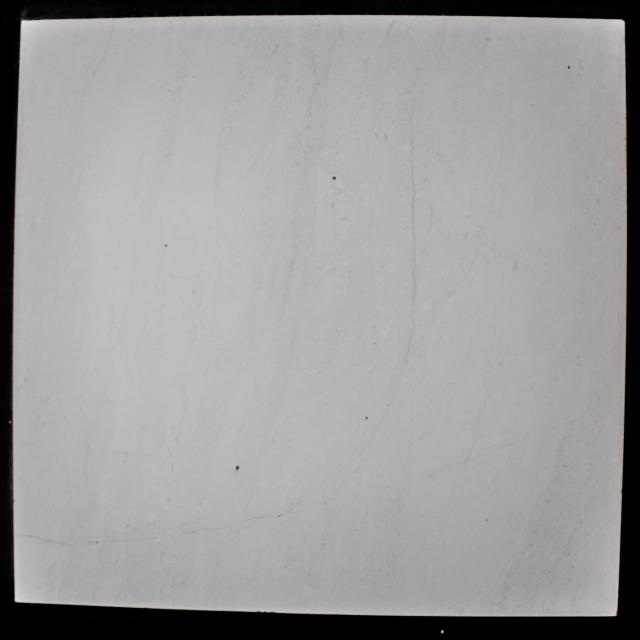hole: (235, 464, 241, 471), (164, 242, 169, 249), (332, 175, 337, 181), (566, 65, 572, 70), (364, 416, 368, 421)
line: (406, 306, 417, 361), (24, 534, 66, 546), (412, 269, 418, 303), (411, 162, 416, 195), (410, 124, 415, 154), (413, 232, 417, 267), (411, 198, 415, 231)
